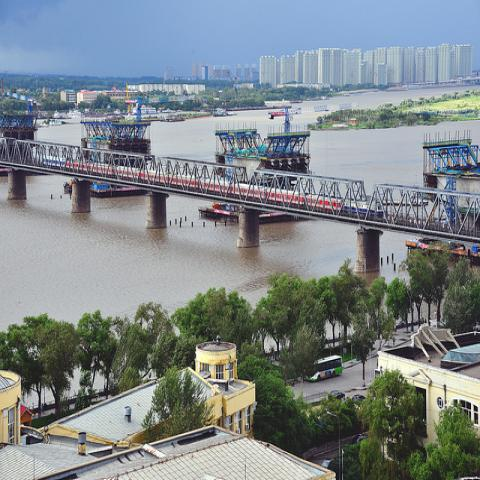bus: (308, 354, 342, 382)
